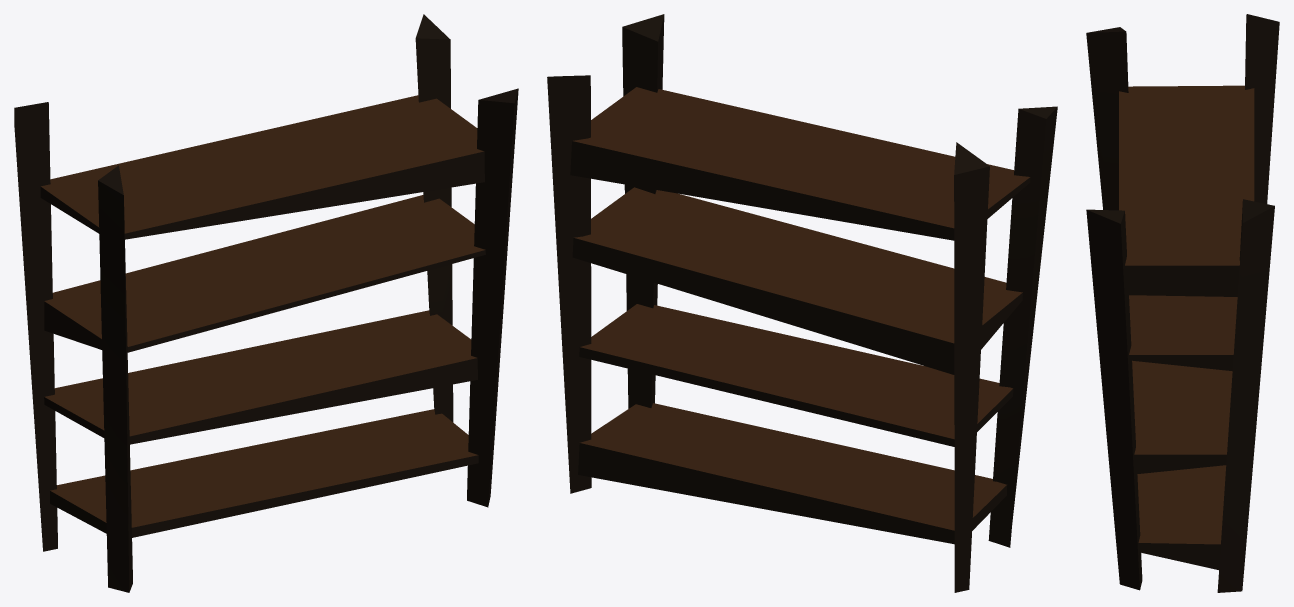
File: c_furniture_shelves_wood_aa.fbx
The picture shows the model from 3 angles, left to right: view 1: azimuth 30°, elevation 25°; view 2: azimuth 150°, elevation 25°; view 3: azimuth 270°, elevation 25°; orthographic projection. The views are drawn at different scales.
Visible parts, largest first — view 1: c_furniture_shelves_wood_aa; view 2: c_furniture_shelves_wood_aa; view 3: c_furniture_shelves_wood_aa.
Part boxes in pixels (box(x1,y1,x2,y2)): c_furniture_shelves_wood_aa: box(14, 14, 518, 592); c_furniture_shelves_wood_aa: box(547, 14, 1057, 592); c_furniture_shelves_wood_aa: box(1086, 14, 1279, 592).
Bounding box in the file's own units: 2.18 × 2.13 × 0.9233.
